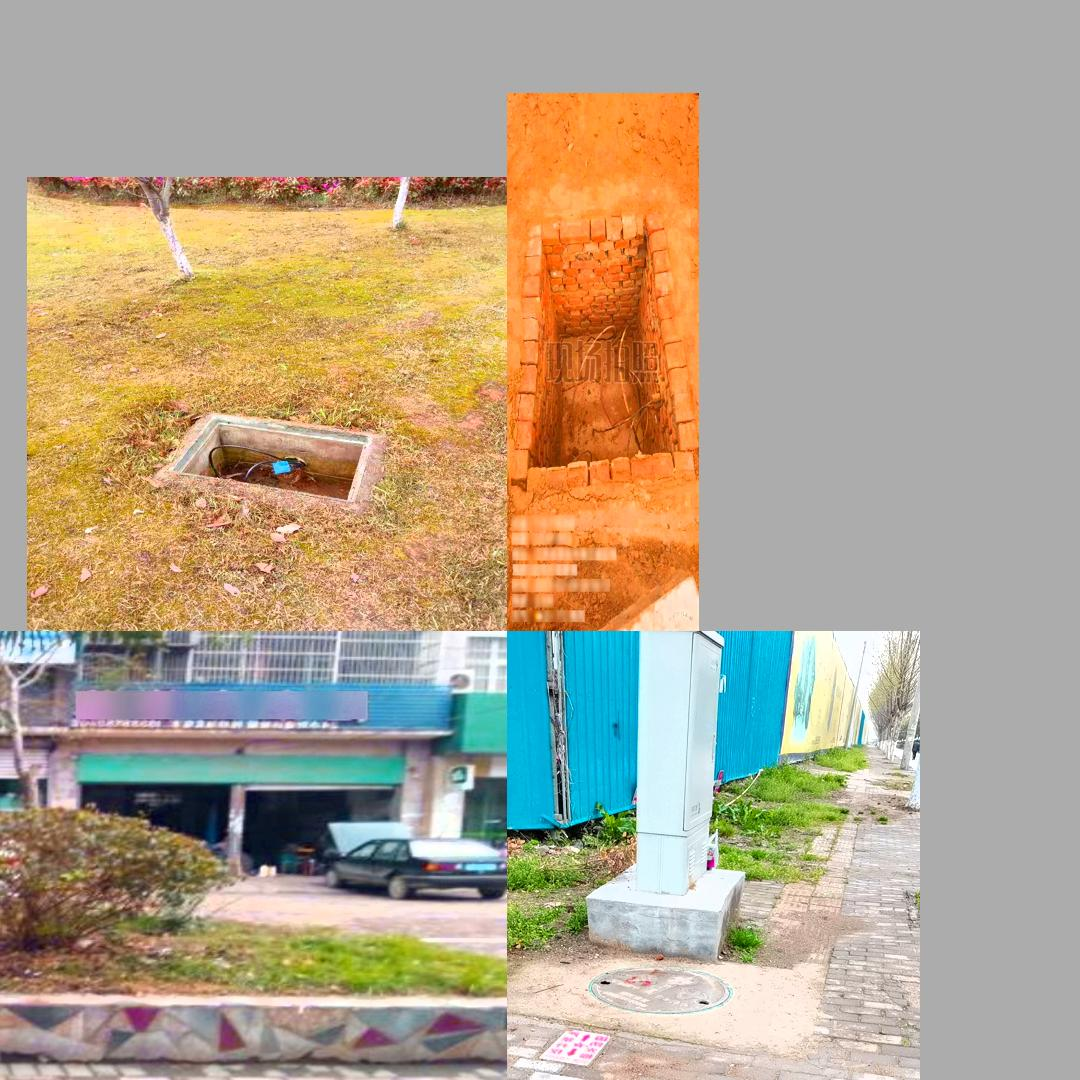lose: (525, 233, 681, 469), (169, 411, 382, 507)
